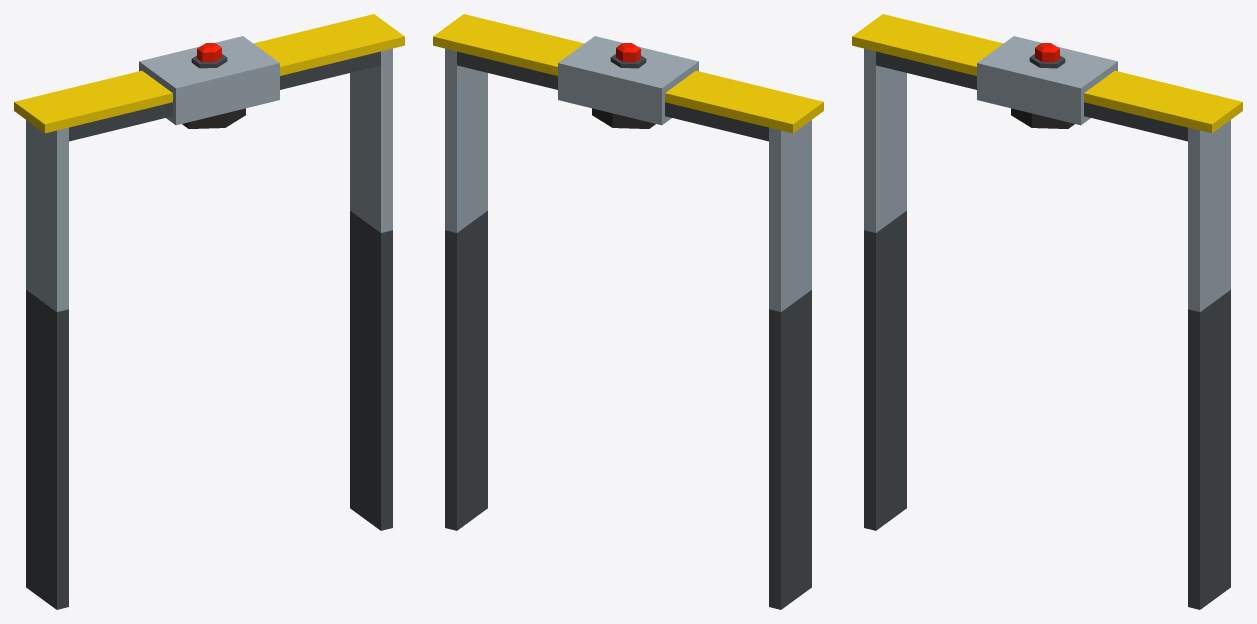
The model's file is ProductionGate_LONG.fbx.
The picture shows the model from 3 angles, left to right: view 1: azimuth 30°, elevation 25°; view 2: azimuth 150°, elevation 25°; view 3: azimuth 330°, elevation 25°; orthographic projection.
Visible parts, largest first — view 1: Plane.003; view 2: Plane.003; view 3: Plane.003.
Boxes of the visible parts, x1=… form: Plane.003: x1=14, y1=14, x2=404, y2=609; Plane.003: x1=433, y1=14, x2=823, y2=609; Plane.003: x1=852, y1=14, x2=1242, y2=609.
Bounding box in the file's own units: 540 × 734 × 96.
